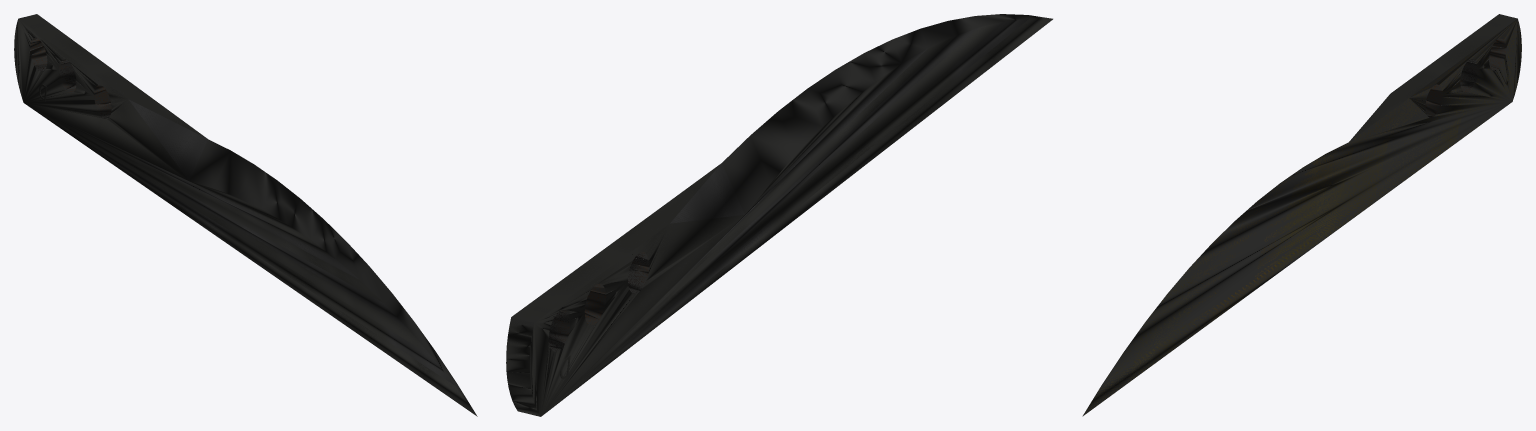
File: model_align.obj
3 views of the same model, side by side, from view 1: azimuth 30°, elevation 25°; view 2: azimuth 150°, elevation 25°; view 3: azimuth 330°, elevation 25° (orthographic). The views are drawn at different scales.
Bounding box in the file's own units: 0.00547 × 0.0244 × 0.2192.
